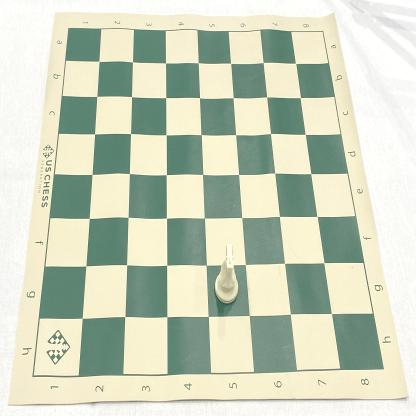white-knight: (214, 243, 239, 305)
